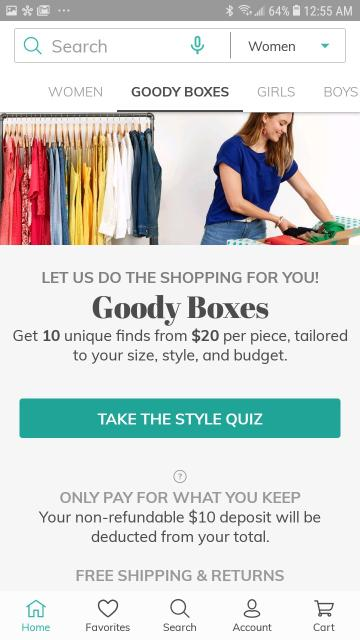Bottom_Navigation: (0, 590, 360, 640)
EditText: (15, 28, 346, 64)
Icon: (170, 598, 190, 618), (26, 599, 46, 617), (98, 600, 118, 618), (314, 600, 334, 618), (243, 598, 260, 618), (24, 37, 42, 55), (190, 36, 204, 54), (174, 470, 187, 482), (320, 44, 328, 48)
Image: (0, 112, 360, 245)
Multi_Tab: (0, 74, 360, 112)
Text: (13, 328, 347, 364), (38, 509, 320, 545), (92, 294, 268, 326), (42, 272, 318, 282), (76, 569, 284, 581), (60, 492, 300, 502), (98, 413, 262, 427), (132, 87, 228, 97), (52, 40, 106, 52), (48, 87, 102, 97), (248, 41, 294, 50), (258, 87, 295, 97), (86, 623, 130, 631), (324, 87, 357, 97), (232, 623, 272, 631), (164, 622, 196, 630), (22, 623, 50, 631), (314, 624, 334, 630)
TextButton: (20, 398, 340, 438)
TextImageButton: (232, 598, 272, 632), (86, 600, 130, 630), (164, 598, 196, 632), (22, 599, 50, 631), (314, 600, 334, 632)
UpperTaskBar: (0, 0, 359, 20)
